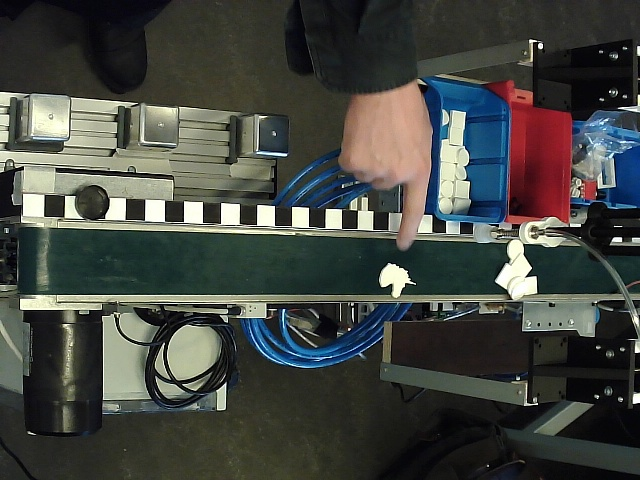unicorn: (378, 261, 418, 300)
